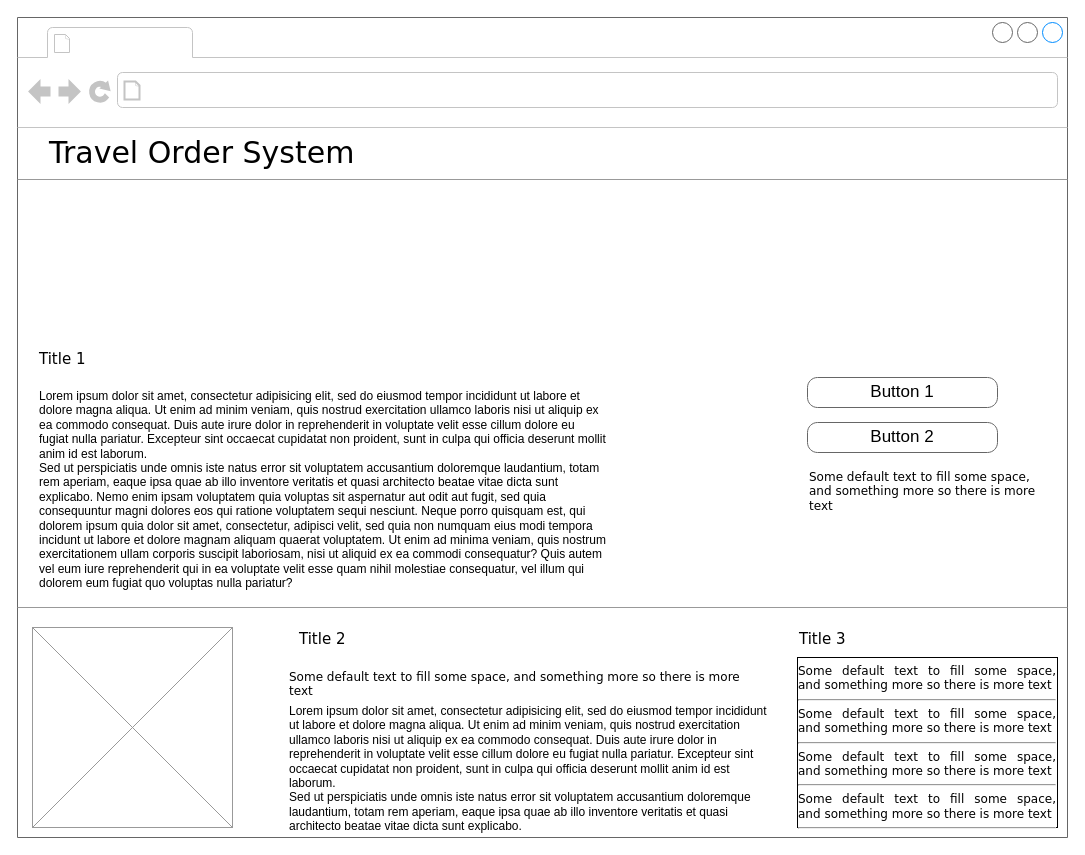
This 1085x855 diagram has some shape labels left out. Here are the shapes that lost their labels. From the top down, the centre of each, then its label:
At (x=132, y=42): "Page 1".
At (x=272, y=90): "https://www.default.com".
